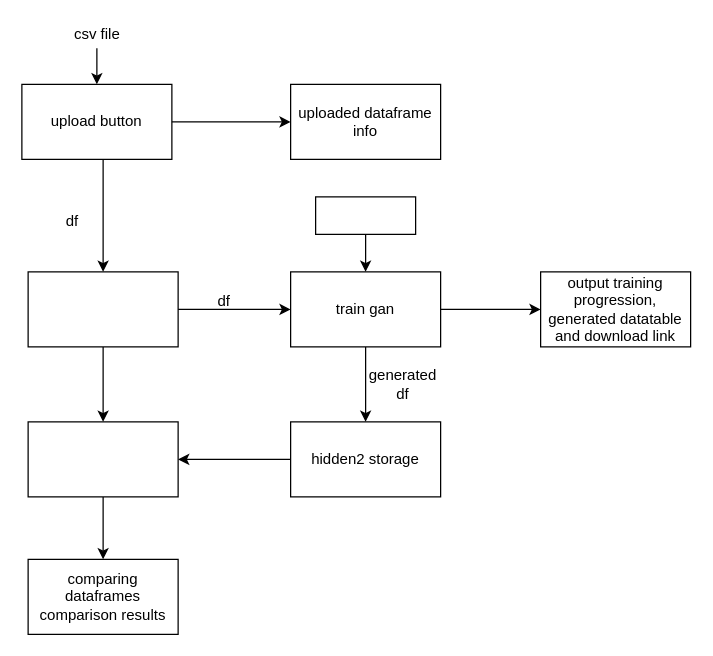
This 713x656 diagram has some shape labels left out. The centre of each missing label's shape, as x and y in pixels:
"comparison methods input (dropdown?)" belongs at (x=102, y=459).
"hidden1 storage" belongs at (x=102, y=309).
"training inputs" belongs at (x=365, y=215).
